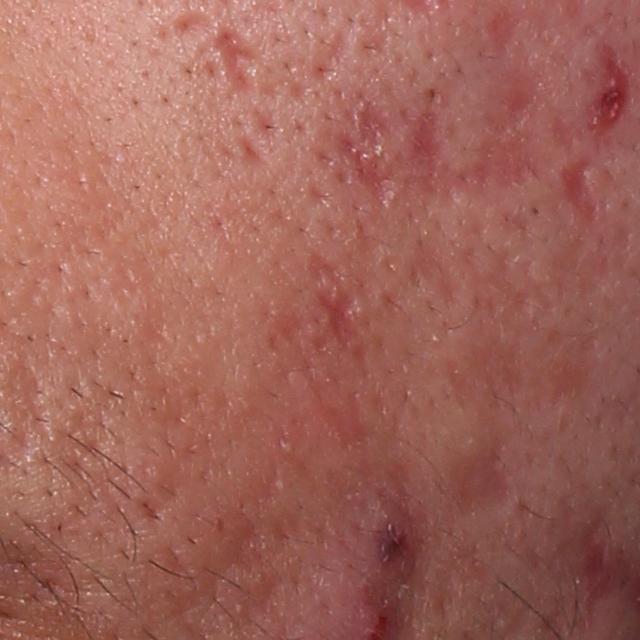atrophic_scar: (342, 61, 555, 211), (446, 434, 528, 527), (575, 39, 638, 157), (465, 240, 535, 338), (315, 288, 377, 379), (550, 220, 614, 301), (412, 239, 463, 309), (214, 28, 258, 97), (556, 158, 600, 220), (481, 2, 525, 54), (234, 126, 275, 180), (172, 10, 222, 45)
